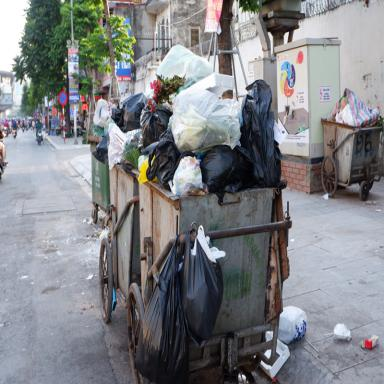plasticbag: (125, 68, 289, 272), (173, 218, 226, 355), (168, 77, 246, 157), (154, 40, 211, 89), (326, 87, 379, 127), (276, 303, 308, 344), (110, 92, 143, 127), (331, 317, 352, 344)
